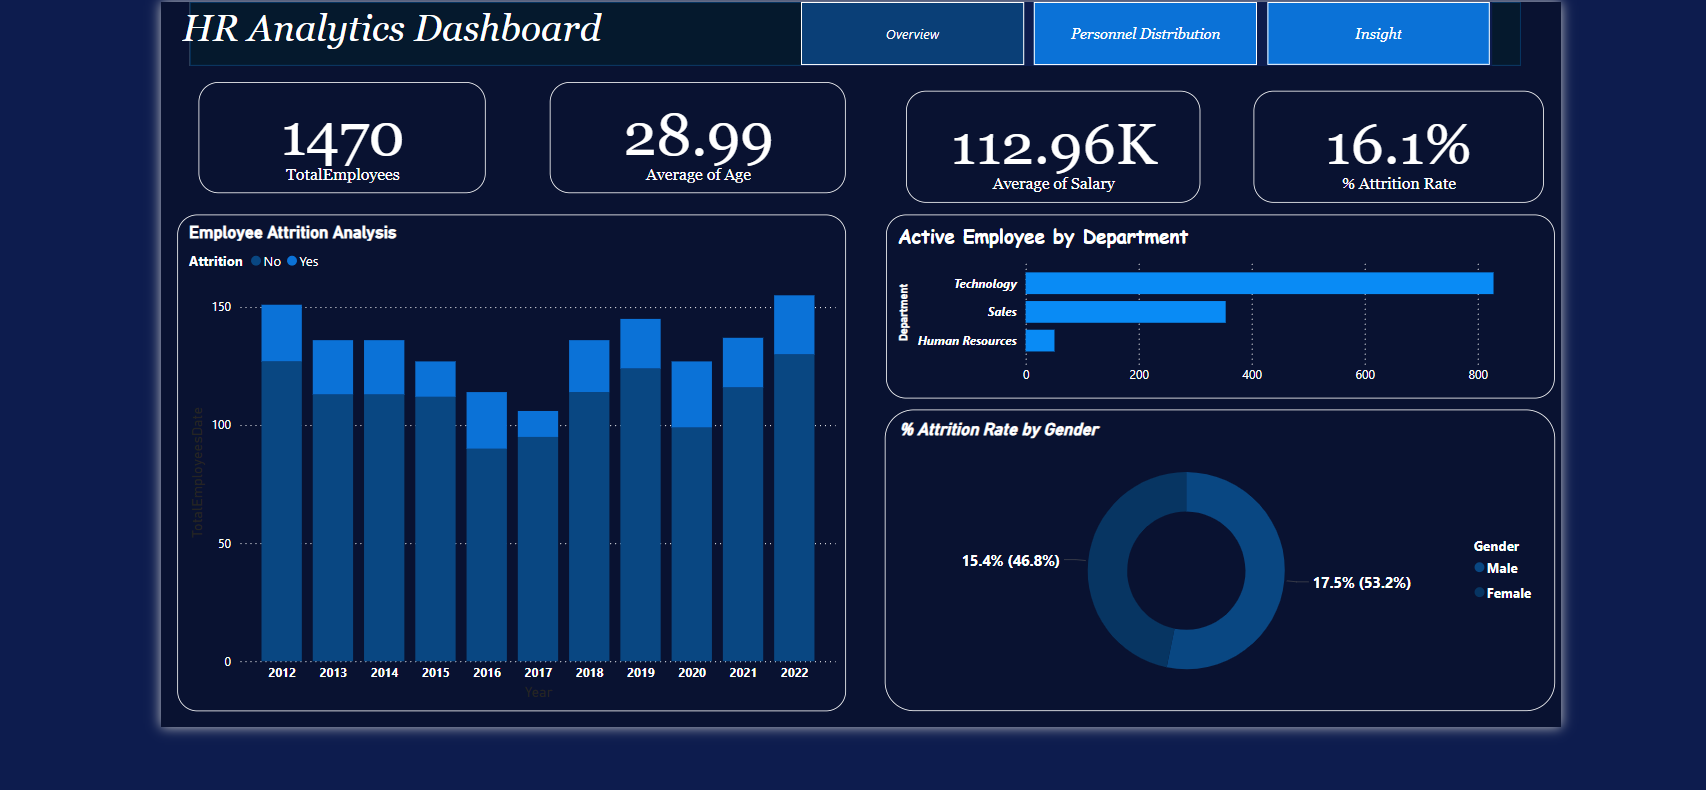

What the dashboard file says about the page in this screenshot:
{"tool":"powerbi","page":{"name":"Overview","canvas":[1400,725],"ordinal":0},"visuals":[{"type":"card","fields":{"Values":["_Measures.TotalEmployees"]},"box":[37,79.6,286.9,110.9],"z":0},{"type":"card","title":"AVG AGE","fields":{"Values":["Avg(DimEmployee.Age)"]},"box":[388.8,79.6,295.8,110.9],"z":1000},{"type":"card","fields":{"Values":["Avg(DimEmployee.Salary)"]},"box":[745.2,88.5,294.7,112.1],"z":2000},{"type":"card","fields":{"Values":["_Measures.% Attrition Rate"]},"box":[1092.5,88.5,290.2,112.1],"z":3000},{"type":"columnChart","title":"Employee Attrition Analysis","fields":{"Category":["DimDate.Date.Variation.Date Hierarchy.Year","DimDate.Date.Variation.Date Hierarchy.Quarter","DimDate.Date.Variation.Date Hierarchy.Month","DimDate.Date.Variation.Date Hierarchy.Day"],"Y":["_Measures.TotalEmployeesDate"],"Series":["DimEmployee.Attrition"]},"box":[15.7,212.9,669,496.4],"z":4000},{"type":"clusteredBarChart","title":"Active Employee by Department","fields":{"Category":["DimEmployee.Department"],"Y":["_Measures.ActiveEmployees"]},"box":[725,212.9,669,183.8],"z":5000},{"type":"shape","box":[29.1,0,1331.2,63.9],"z":6000},{"type":"textbox","box":[15.7,0,476.1,64],"z":7000},{"type":"pageNavigator","box":[639.8,0,691.4,63.9],"z":8000},{"type":"donutChart","fields":{"Category":["DimEmployee.Gender"],"Y":["_Measures.% Attrition Rate"]},"box":[723.9,407.9,670.1,301.4],"z":9000}]}

Visuals, with their boxes on the page's 1400x725 design canvas (x1, y1, x2, y2). These are canvas units, not pixel positions in the 1706x790 screenshot, which may show the page scaled, cropped or inside an application window:
card - _Measures.TotalEmployees: 37:80:324:190
"AVG AGE" card: 389:80:685:190
card - Avg(DimEmployee.Salary): 745:88:1040:201
card - _Measures.% Attrition Rate: 1092:88:1383:201
"Employee Attrition Analysis" columnChart: 16:213:685:709
"Active Employee by Department" clusteredBarChart: 725:213:1394:397
shape: 29:0:1360:64
textbox: 16:0:492:64
pageNavigator: 640:0:1331:64
donutChart - DimEmployee.Gender x _Measures.% Attrition Rate: 724:408:1394:709
